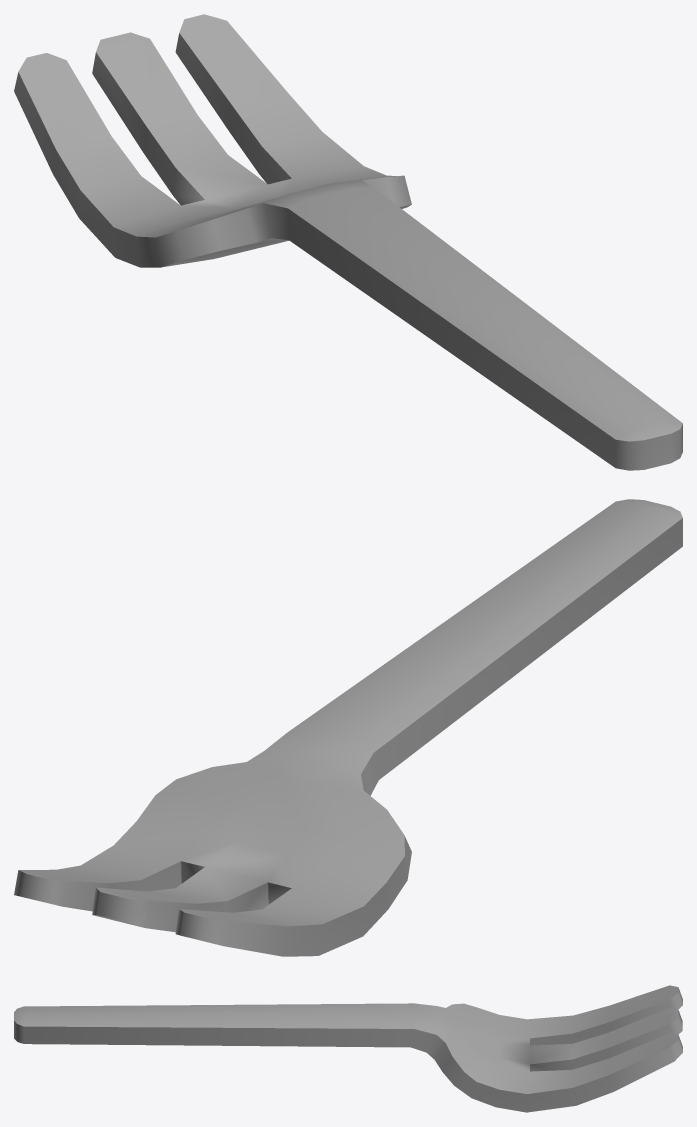
The model's file is Fork_01.fbx.
3 renders of one model, top to bottom at view 1: azimuth 30°, elevation 25°; view 2: azimuth 150°, elevation 25°; view 3: azimuth 270°, elevation 25°, orthographic. The views are drawn at different scales.
Visible parts, largest first — view 1: Fork_01; view 2: Fork_01; view 3: Fork_01.
Boxes of the visible parts, bbox=[...] form: Fork_01: bbox=[14, 14, 682, 470]; Fork_01: bbox=[14, 499, 682, 956]; Fork_01: bbox=[14, 985, 682, 1112].
Size of the model in its own units: 10.47 by 4.16 by 39.56.
